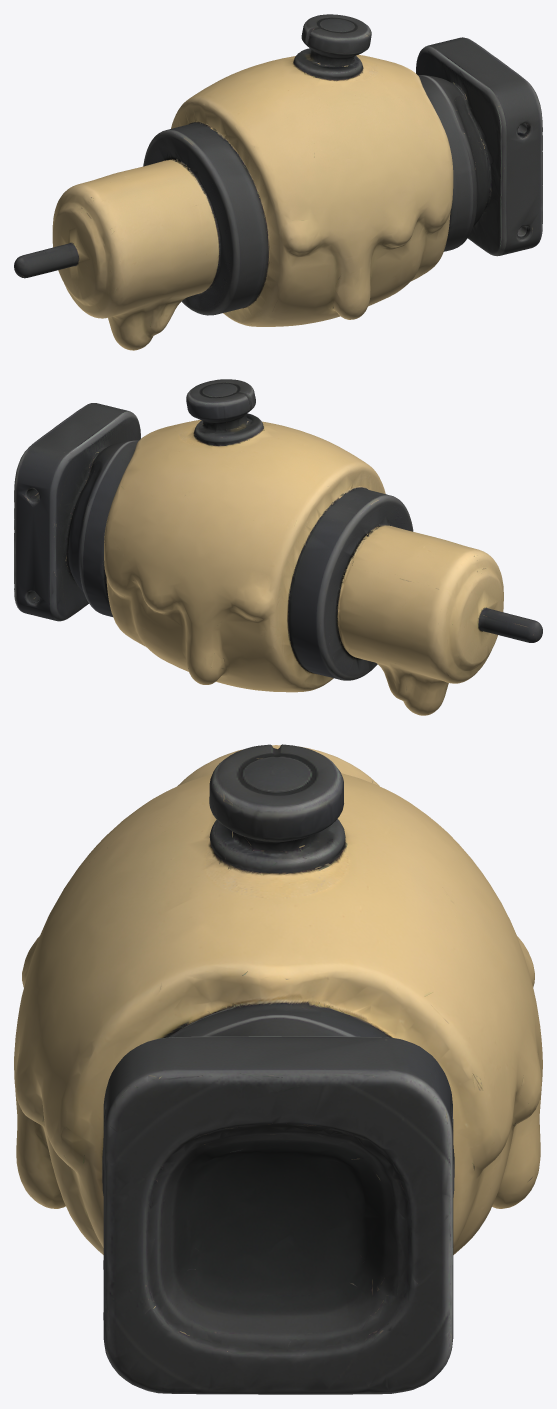
Rendered from Meshy_AI_Dripping_Valve_0614074830_texture.fbx.
The picture shows the model from 3 angles, top to bottom: view 1: azimuth 30°, elevation 25°; view 2: azimuth 150°, elevation 25°; view 3: azimuth 270°, elevation 25°; orthographic projection. The views are drawn at different scales.
Visible parts, largest first — view 1: Mesh_0; view 2: Mesh_0; view 3: Mesh_0.
Boxes of the visible parts, bbox=[...] form: Mesh_0: bbox=[14, 14, 542, 350]; Mesh_0: bbox=[14, 379, 542, 715]; Mesh_0: bbox=[14, 744, 542, 1394].
Size of the model in its own units: 191 by 105 by 92.09.
1 material, 1 textured.
